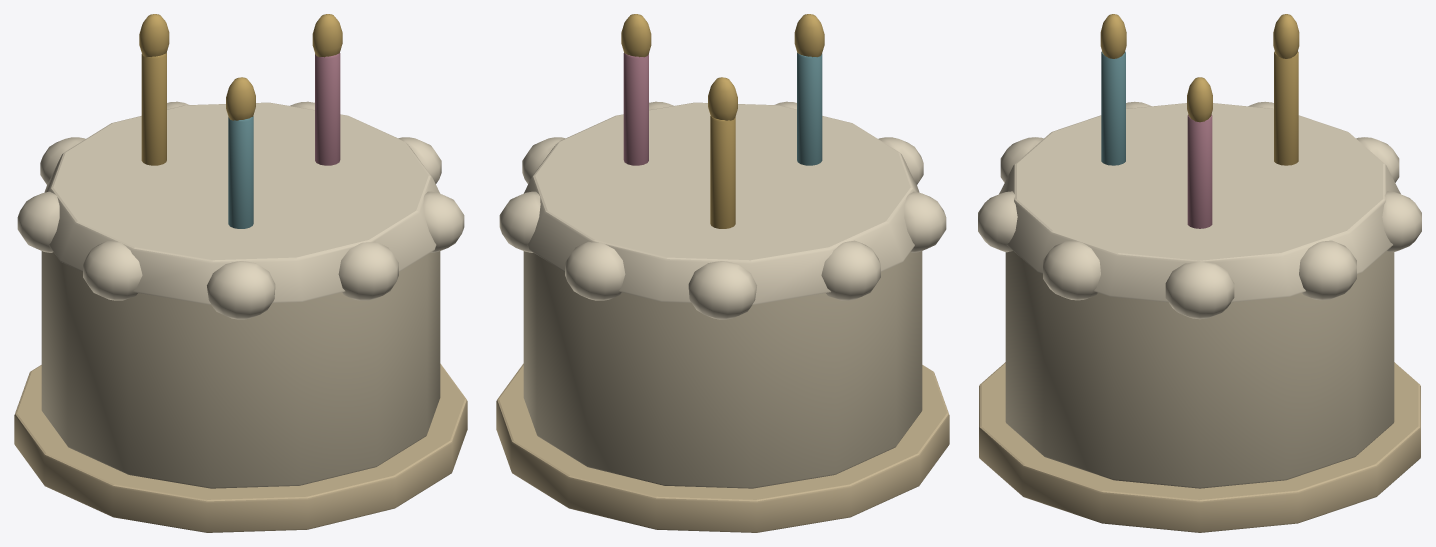
File: birthday_cake.glb
3 renders of one model, left to right at view 1: azimuth 30°, elevation 25°; view 2: azimuth 150°, elevation 25°; view 3: azimuth 270°, elevation 25°, orthographic.
Bounding box in the file's own units: 0.5 × 0.49 × 0.4897.
